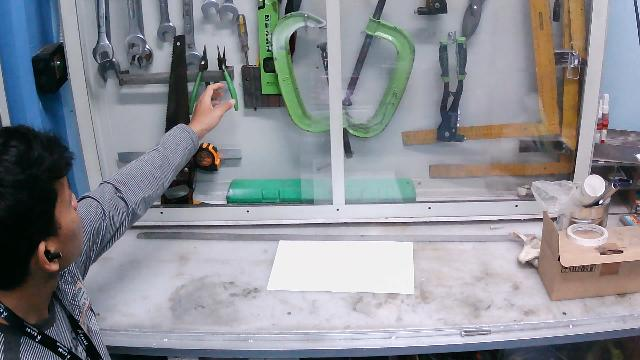tang_cucut_lancip_1: (210, 41, 241, 120)
